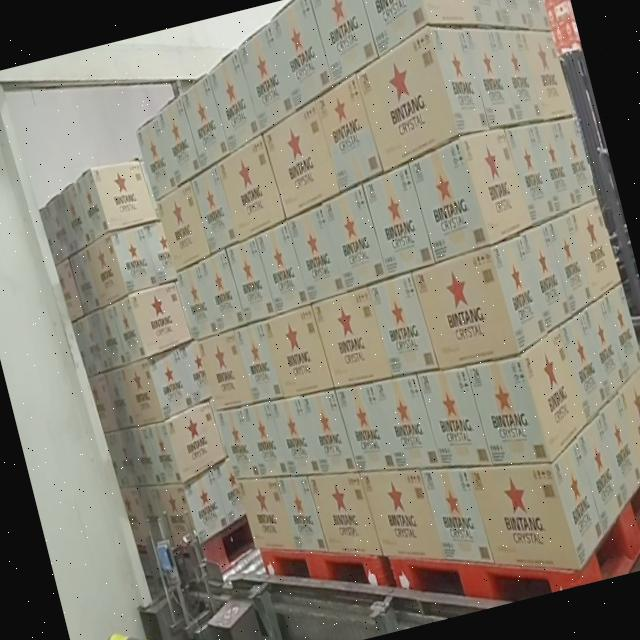pallet: (249, 0, 640, 629), (123, 41, 395, 625), (22, 132, 264, 596)
